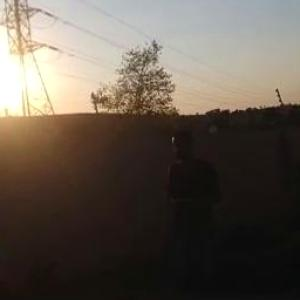follow: (164, 123, 226, 299)
